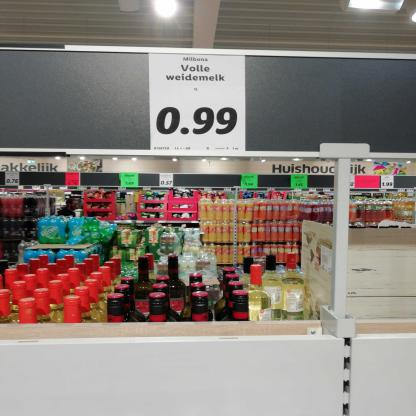prtg: (149, 54, 247, 152)
